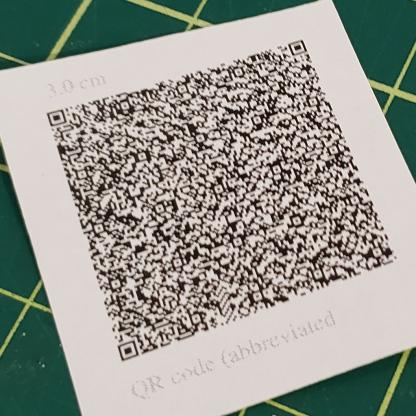qr: (44, 37, 404, 367)
